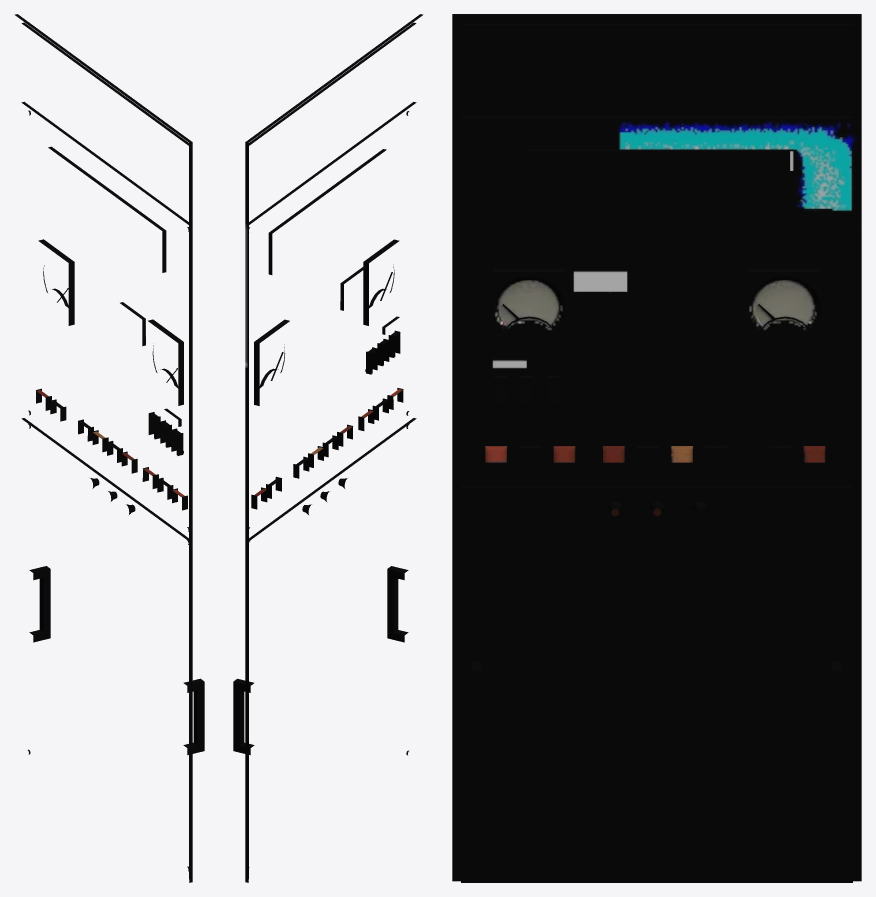
3 renders of one model, left to right at view 1: azimuth 30°, elevation 25°; view 2: azimuth 150°, elevation 25°; view 3: azimuth 270°, elevation 25°, orthographic. The views are drawn at different scales.
Visible parts, largest first — view 1: body0_model0_lod0_mesh0; view 2: body0_model0_lod0_mesh0; view 3: body0_model0_lod0_mesh0.
Boxes of the visible parts, <box> form: body0_model0_lod0_mesh0: <box>14,14,204,882</box>; body0_model0_lod0_mesh0: <box>233,14,423,882</box>; body0_model0_lod0_mesh0: <box>452,14,861,882</box>.
Bounding box in the file's own units: 3.76 × 112 × 47.99.
1 material, 1 textured.
